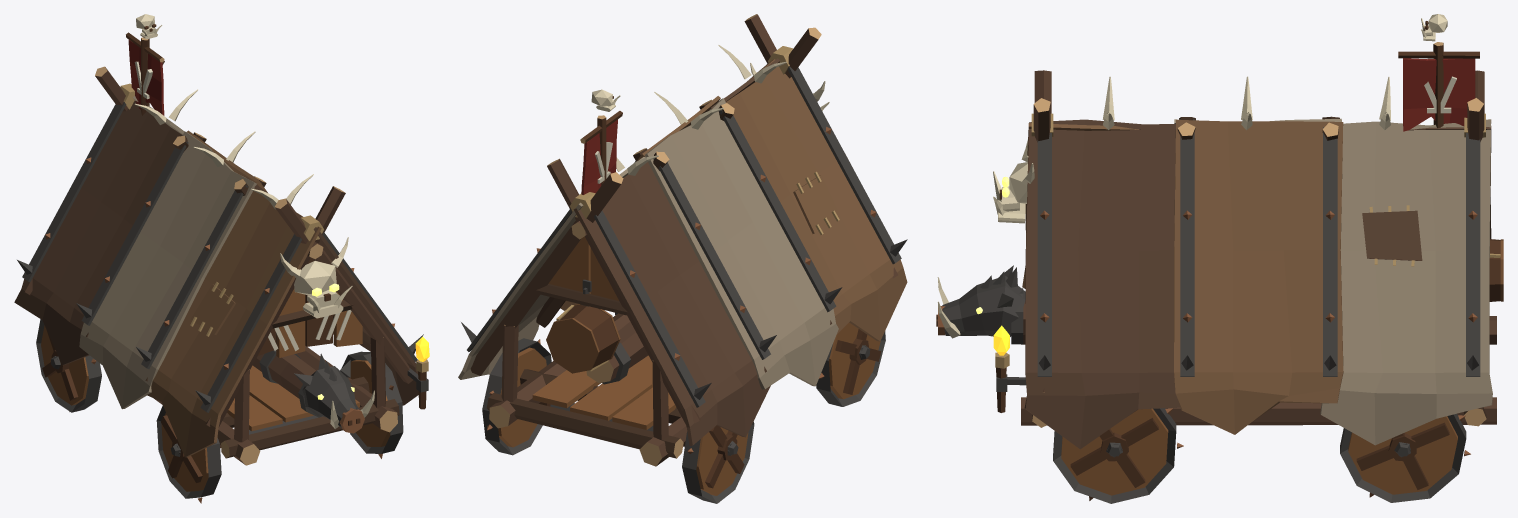
Rendered from Ork_Rammbock.fbx.
The picture shows the model from 3 angles, left to right: view 1: azimuth 30°, elevation 25°; view 2: azimuth 150°, elevation 25°; view 3: azimuth 270°, elevation 25°; orthographic projection. The views are drawn at different scales.
Parts seen in each view (by area): view 1: Ramme_Body, Rammbalken, Rad_HR, Rad_VR, Rad_VL; view 2: Ramme_Body, Rad_HR, Rad_VR, Rad_HL, Rammbalken; view 3: Ramme_Body, Rad_VL, Rad_HL, Rammbalken.
Part boxes in pixels (x1=…): Ramme_Body: x1=14, y1=14, x2=429, y2=465; Rammbalken: x1=252, y1=333, x2=374, y2=433; Rad_HR: x1=36, y1=319, x2=101, y2=412; Rad_VR: x1=156, y1=405, x2=221, y2=503; Rad_VL: x1=341, y1=351, x2=403, y2=458; Ramme_Body: x1=458, y1=14, x2=907, y2=466; Rad_HR: x1=682, y1=421, x2=754, y2=503; Rad_VR: x1=816, y1=322, x2=885, y2=406; Rad_HL: x1=482, y1=338, x2=551, y2=455; Rammbalken: x1=586, y1=321, x2=648, y2=384; Ramme_Body: x1=993, y1=14, x2=1503, y2=456; Rad_VL: x1=1053, y1=408, x2=1183, y2=503; Rad_HL: x1=1340, y1=413, x2=1470, y2=502; Rammbalken: x1=936, y1=265, x2=1025, y2=344.
Bounding box in the file's own units: 2.64 × 4.03 × 4.72.
